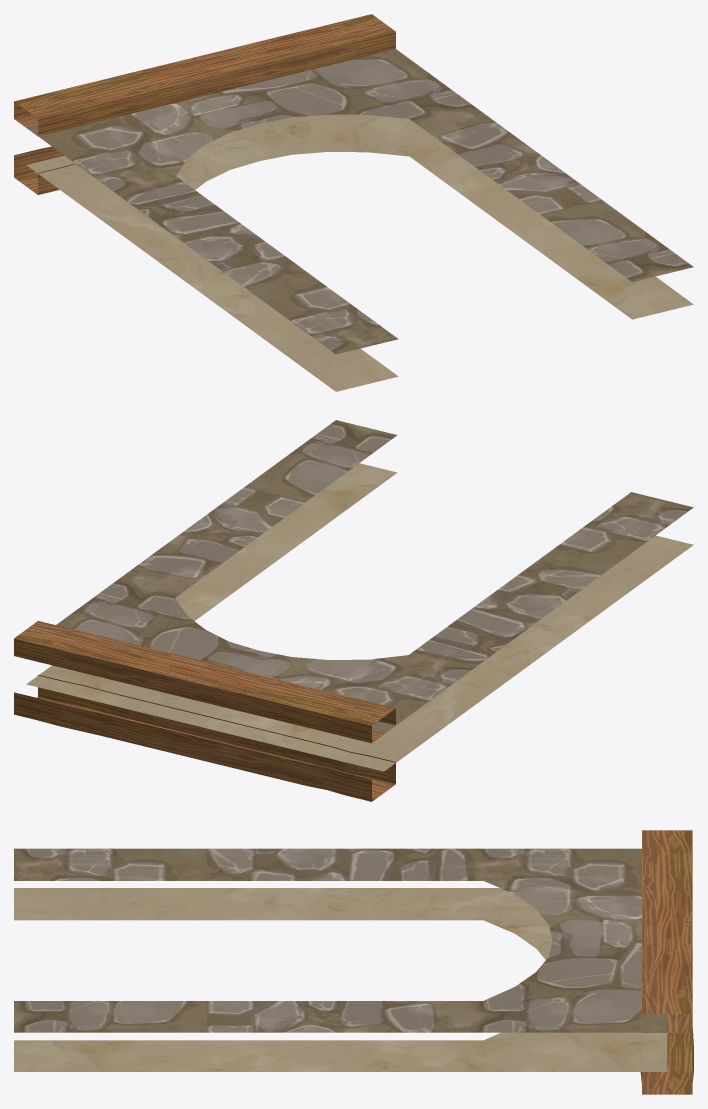
Rendered from Wall_UnevenBrick_Door_Round.fbx.
3 renders of one model, top to bottom at view 1: azimuth 30°, elevation 25°; view 2: azimuth 150°, elevation 25°; view 3: azimuth 270°, elevation 25°, orthographic. The views are drawn at different scales.
Visible parts, largest first — view 1: Wall_UnevenBrick_Door_Round; view 2: Wall_UnevenBrick_Door_Round; view 3: Wall_UnevenBrick_Door_Round.
Boxes of the visible parts, <box> form: Wall_UnevenBrick_Door_Round: <box>14,14,693,391</box>; Wall_UnevenBrick_Door_Round: <box>14,420,693,801</box>; Wall_UnevenBrick_Door_Round: <box>14,830,693,1094</box>.
Size of the model in its own units: 2 by 0.4065 by 3.12.
